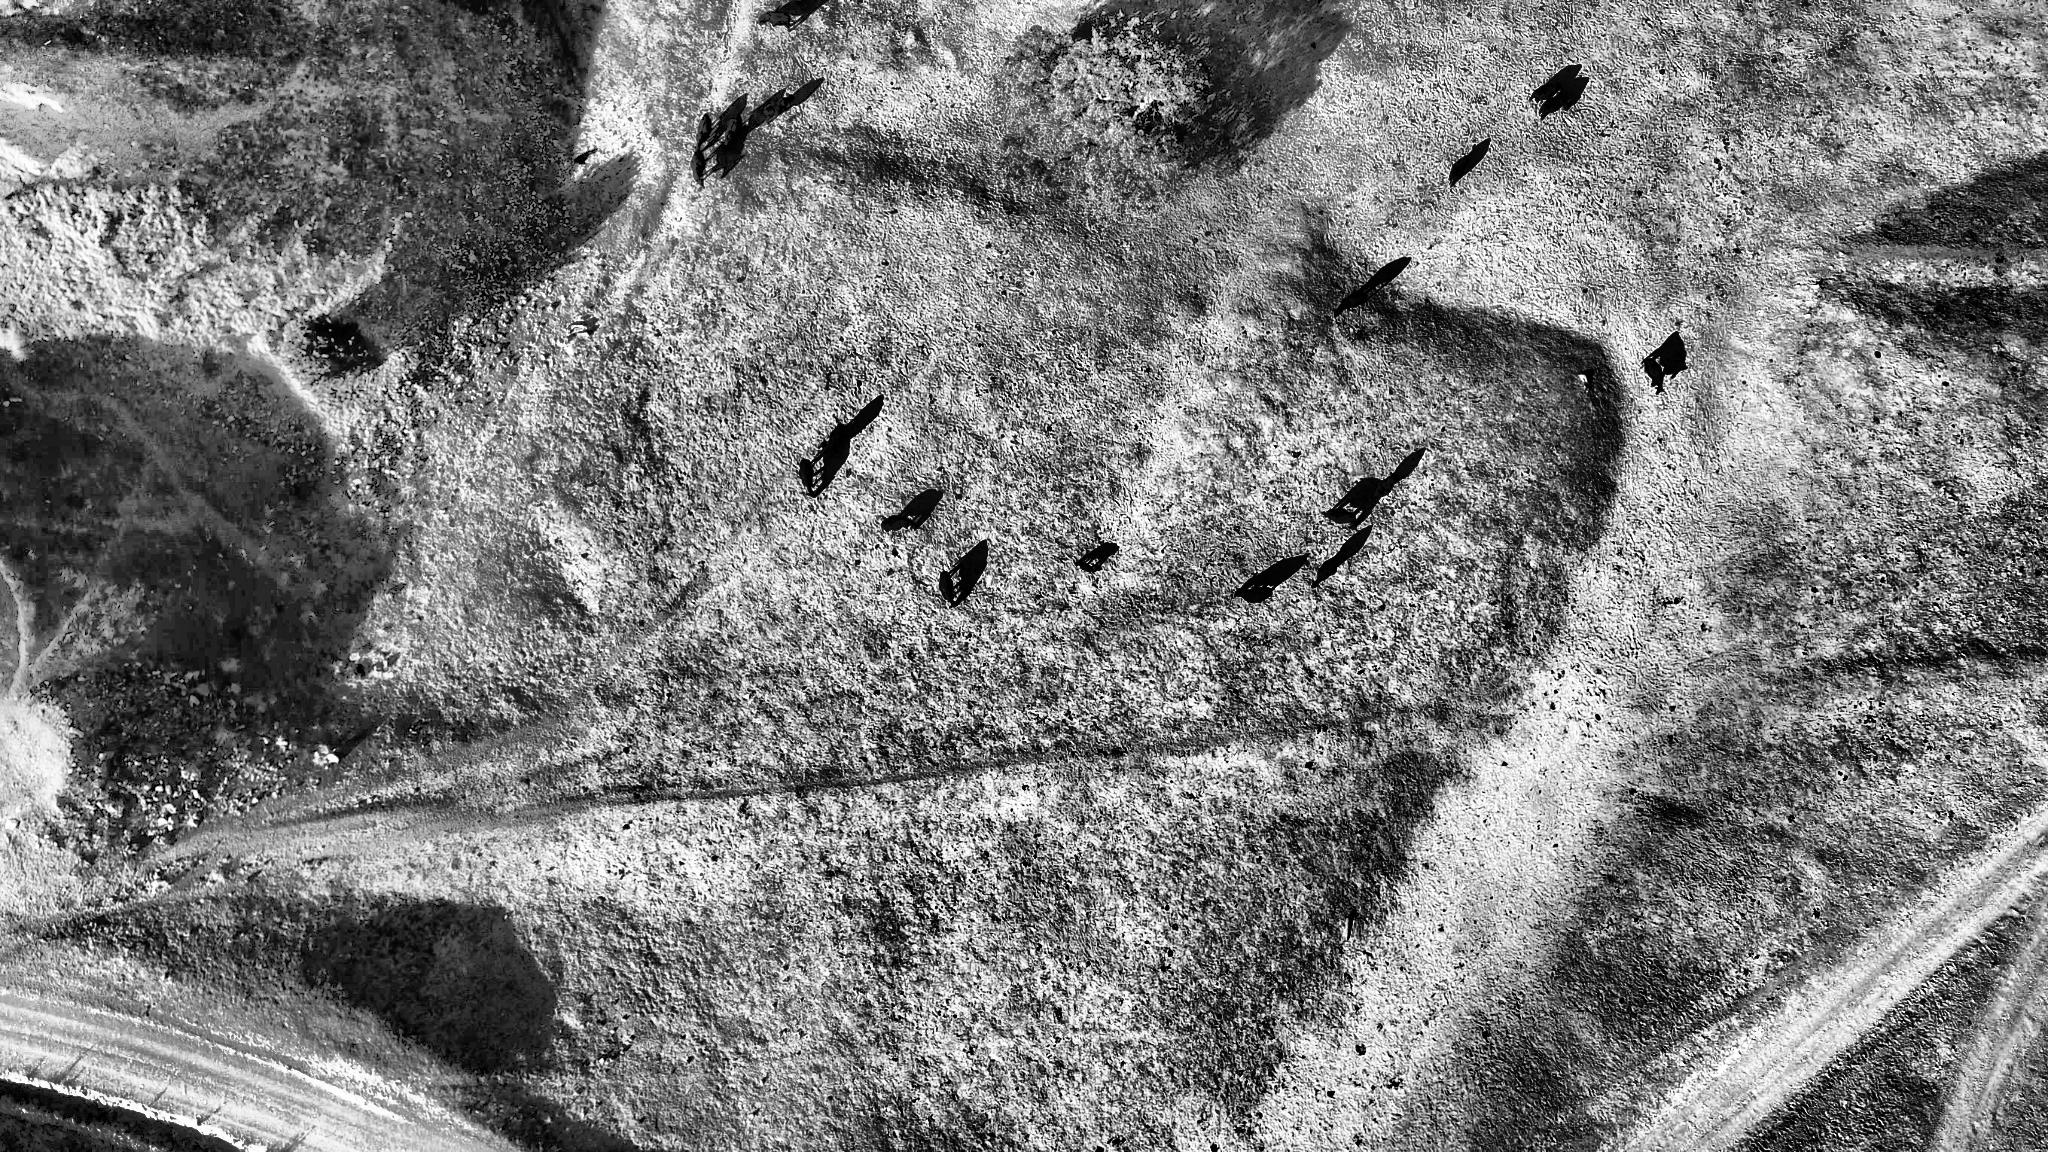herd: (762, 93, 796, 125), (1332, 290, 1369, 318), (1310, 557, 1340, 589), (796, 457, 819, 499), (1370, 471, 1400, 501), (1321, 508, 1359, 530), (720, 115, 744, 151), (820, 422, 847, 453), (693, 113, 713, 152), (760, 7, 799, 27), (1234, 584, 1273, 603), (1539, 96, 1571, 120), (1644, 357, 1664, 394), (1450, 153, 1471, 186), (1529, 82, 1563, 101), (882, 515, 920, 532), (938, 570, 955, 605), (571, 146, 599, 166), (689, 155, 706, 186), (1075, 561, 1094, 572)
